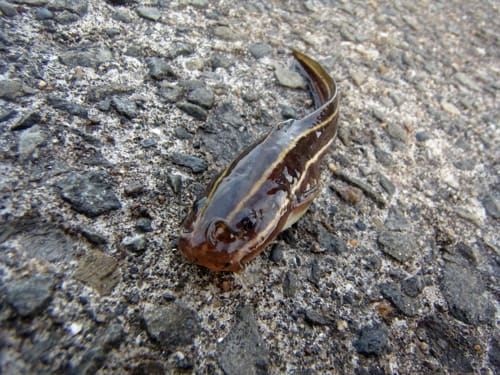gonzui: (157, 44, 357, 281)
